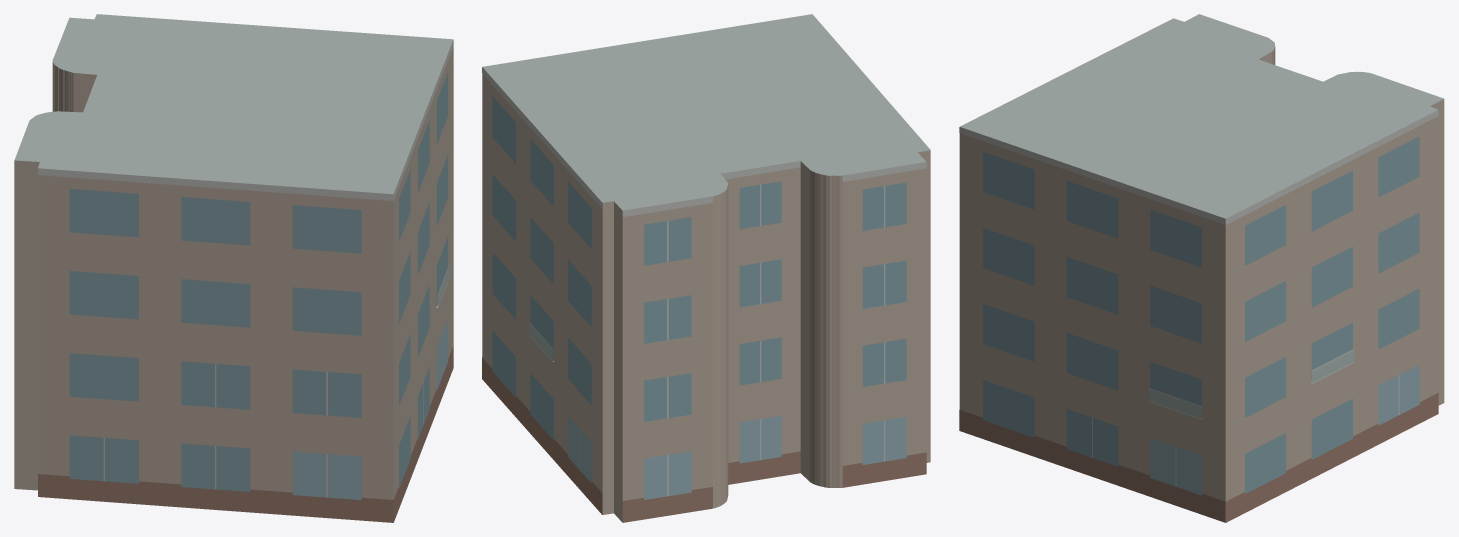
File: survey-upis-32655976.glb
3 renders of one model, left to right at view 1: azimuth 30°, elevation 25°; view 2: azimuth 150°, elevation 25°; view 3: azimuth 270°, elevation 25°, orthographic. The views are drawn at different scales.
Parts seen in each view (by area): view 1: survey-upis-32655976.tmp; view 2: survey-upis-32655976.tmp; view 3: survey-upis-32655976.tmp.
Boxes of the visible parts, <box> form: survey-upis-32655976.tmp: <box>14,14,453,522</box>; survey-upis-32655976.tmp: <box>482,14,930,522</box>; survey-upis-32655976.tmp: <box>959,14,1444,522</box>.
Size of the model in its own units: 16.98 by 11.75 by 16.99.
